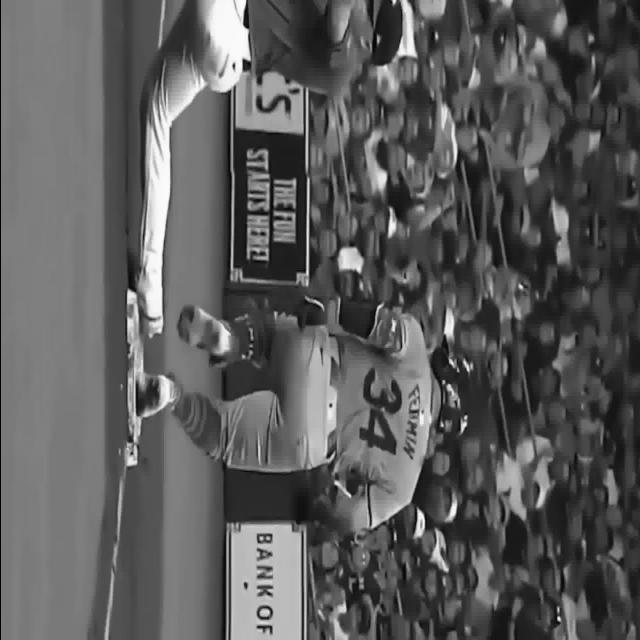base: (124, 289, 142, 467)
shoe: (176, 305, 230, 358), (135, 373, 179, 418), (139, 301, 162, 338)
